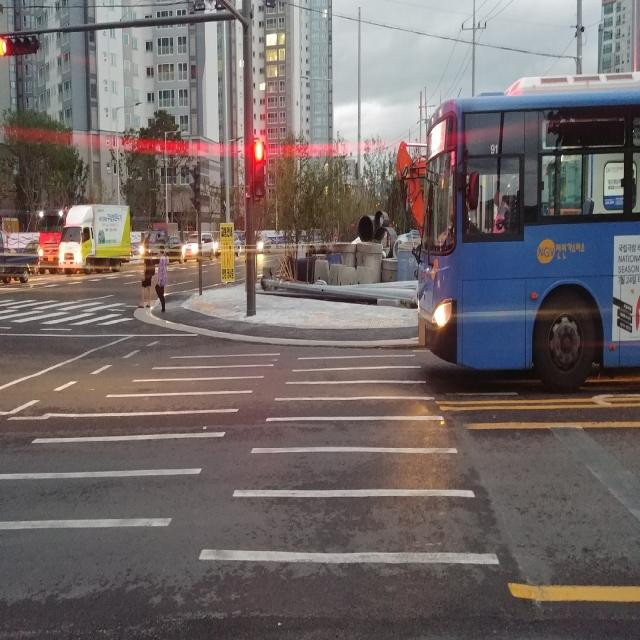빨간불: (252, 138, 266, 198)
횡단보도: (0, 349, 504, 571), (0, 297, 136, 332)
